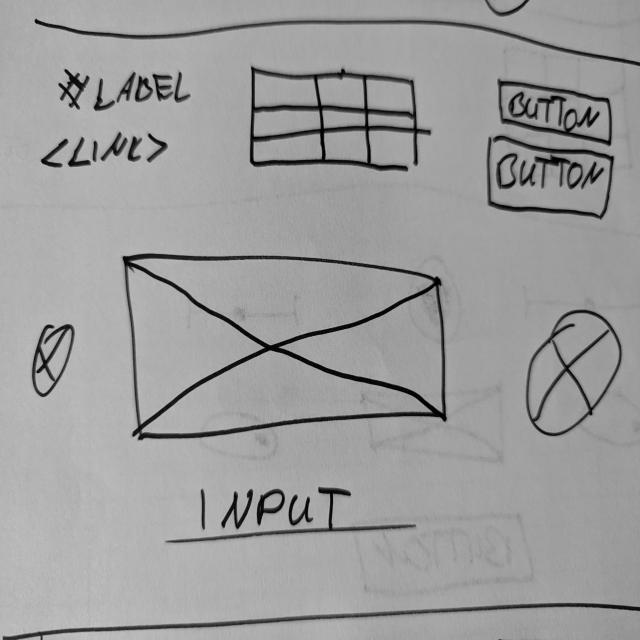button: (486, 134, 616, 223), (497, 79, 616, 150)
image: (122, 252, 450, 445), (524, 308, 625, 444), (30, 322, 79, 402)
input: (166, 481, 420, 547)
label: (58, 67, 194, 114)
link: (41, 131, 172, 172)
table: (249, 63, 422, 176)
